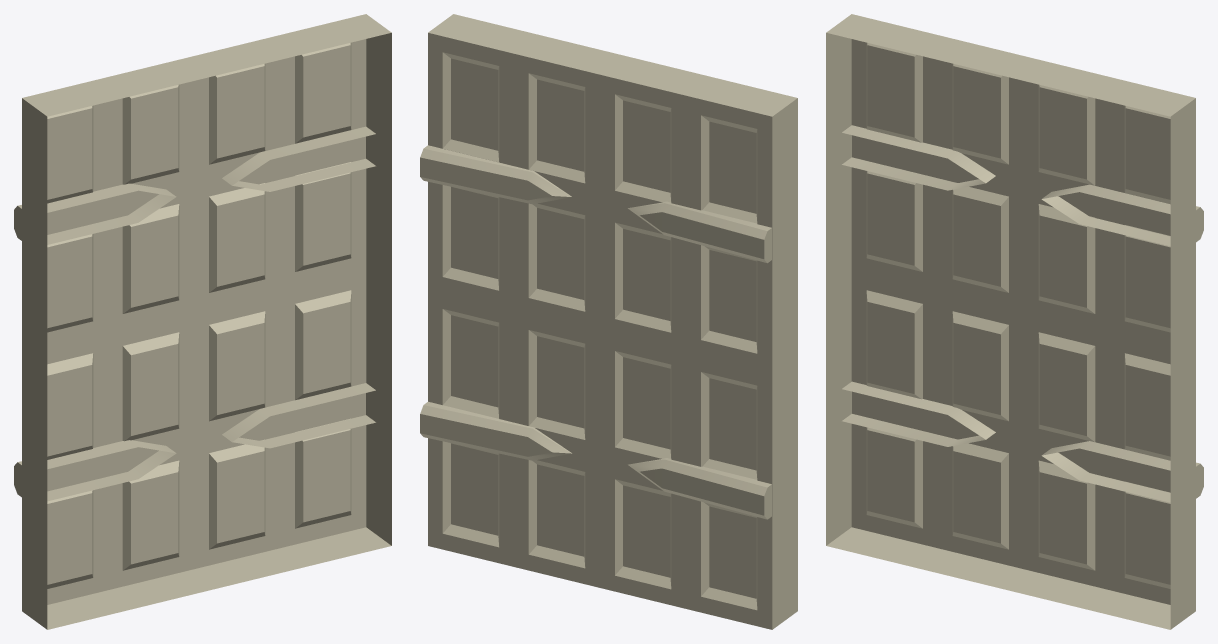
Rendered from DoorButton.fbx.
The picture shows the model from 3 angles, left to right: view 1: azimuth 30°, elevation 25°; view 2: azimuth 150°, elevation 25°; view 3: azimuth 330°, elevation 25°; orthographic projection.
Visible parts, largest first — view 1: DoorButton; view 2: DoorButton; view 3: DoorButton.
Part boxes in pixels (x1,y1,x2,y2): DoorButton: (14, 14, 391, 629); DoorButton: (420, 14, 797, 629); DoorButton: (826, 14, 1203, 629).
Size of the model in its own units: 1 by 1.42 by 0.1685.
